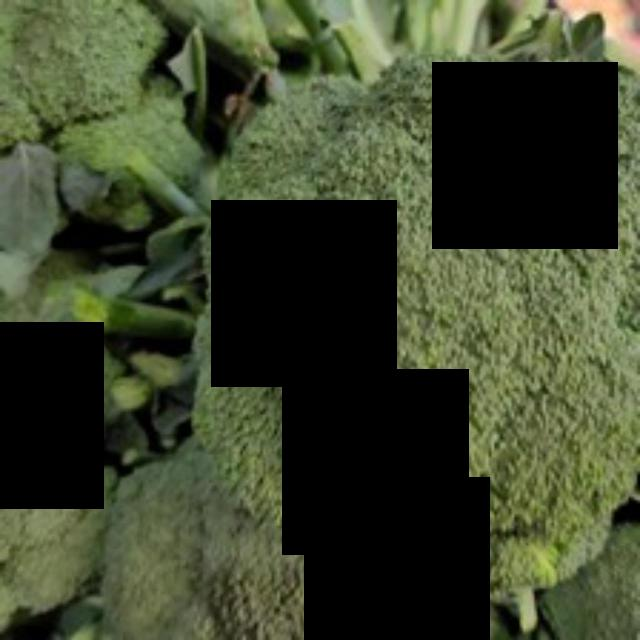broccoli: (171, 40, 637, 597)
